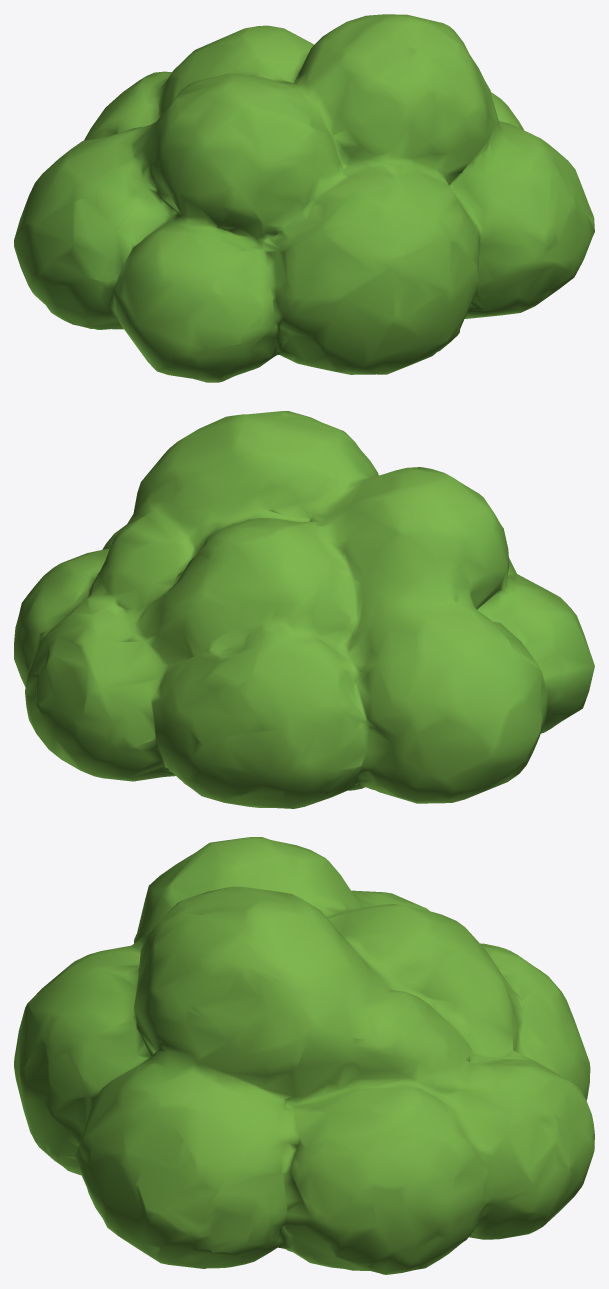
Rendered from Meshy_AI_Green_Cluster_0810130244_texture.glb.
3 renders of one model, top to bottom at view 1: azimuth 30°, elevation 25°; view 2: azimuth 150°, elevation 25°; view 3: azimuth 270°, elevation 25°, orthographic. The views are drawn at different scales.
Parts seen in each view (by area): view 1: Mesh1.0; view 2: Mesh1.0; view 3: Mesh1.0.
Boxes of the visible parts, x1,y1,x2,y2 form: Mesh1.0: [14, 14, 594, 382]; Mesh1.0: [14, 411, 594, 808]; Mesh1.0: [14, 837, 594, 1274].
Size of the model in its own units: 1.9 by 0.9886 by 1.74.
Materials: 1 (1 with a texture image).
